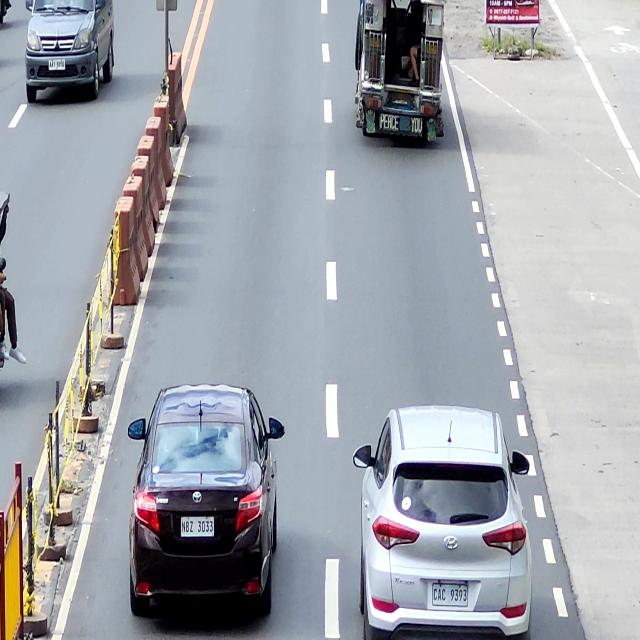Car: (352, 403, 532, 639), (127, 383, 285, 617), (24, 0, 114, 103)
Jeep: (354, 0, 445, 143)
License-Plate: (431, 582, 469, 608), (179, 514, 215, 539), (48, 57, 66, 72)
